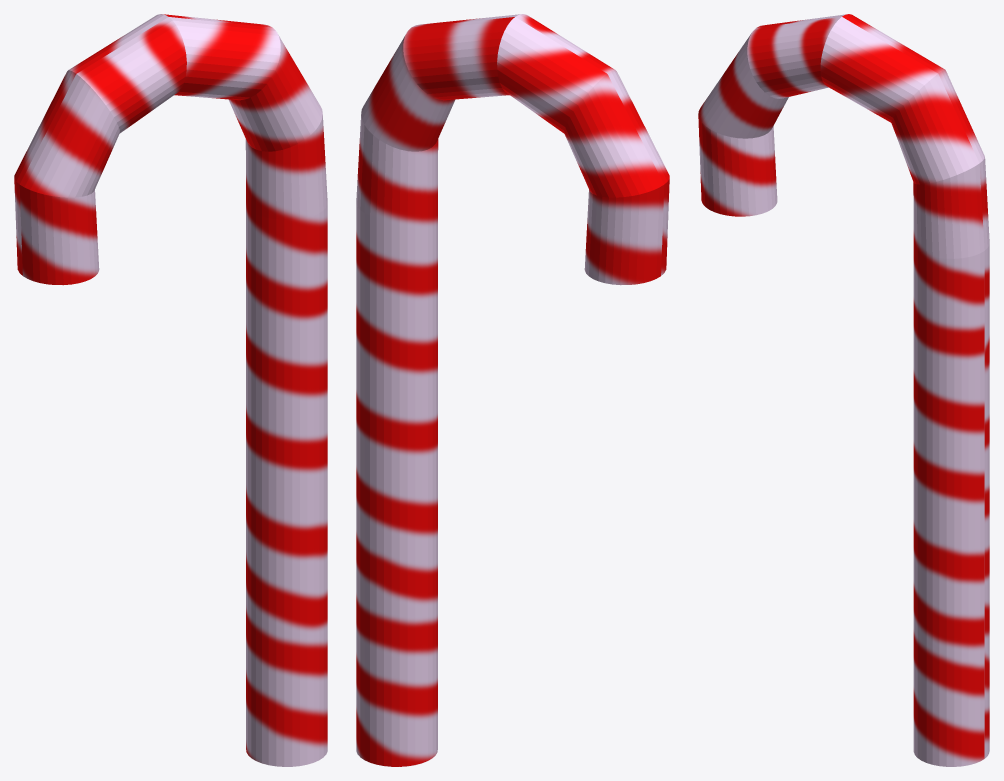
File: CandyCane.fbx
3 views of the same model, side by side, from view 1: azimuth 30°, elevation 25°; view 2: azimuth 150°, elevation 25°; view 3: azimuth 330°, elevation 25° (orthographic). The views are drawn at different scales.
Parts seen in each view (by area): view 1: CandyCane; view 2: CandyCane; view 3: CandyCane.
Boxes of the visible parts, box(x1,y1,x2,y2) form: CandyCane: box(14, 14, 327, 766); CandyCane: box(356, 14, 669, 766); CandyCane: box(698, 14, 989, 766).
Size of the model in its own units: 252 by 606 by 59.06.
1 material, 1 textured.
